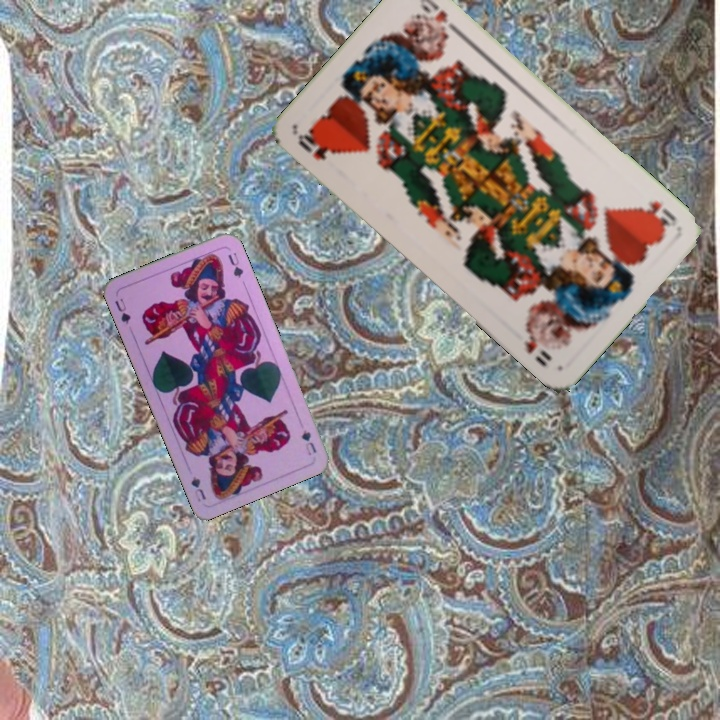GU: (111, 294, 133, 328), (297, 426, 319, 458)
HO: (293, 127, 337, 163), (636, 196, 679, 232)
